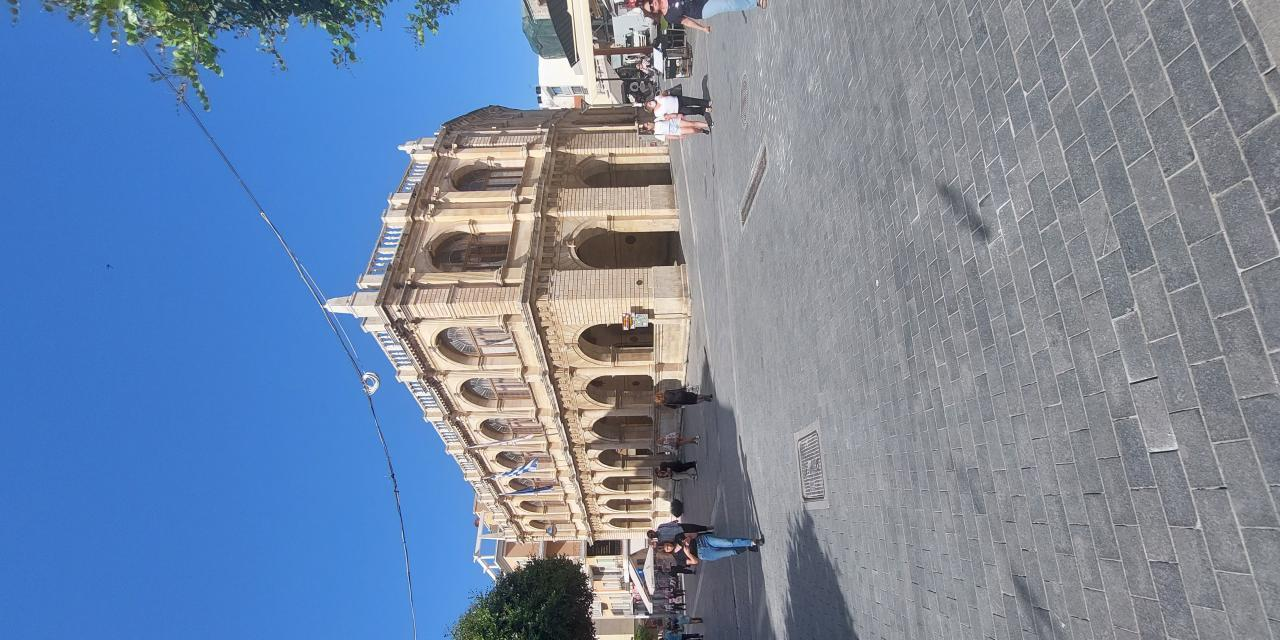Loggia: (85, 373, 479, 640)
